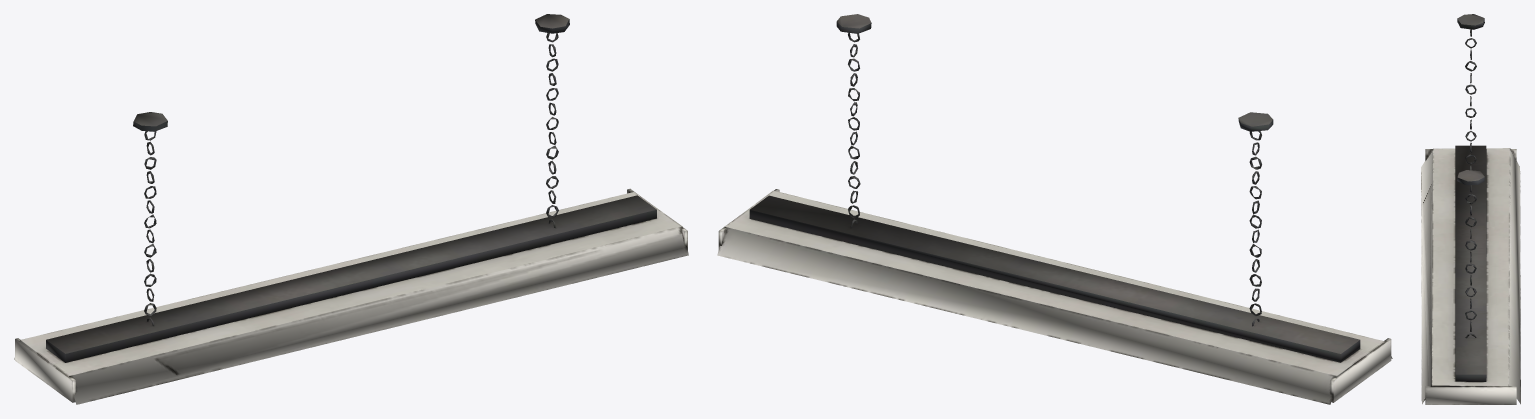
File: shop_light-low.glb
The picture shows the model from 3 angles, left to right: view 1: azimuth 30°, elevation 25°; view 2: azimuth 150°, elevation 25°; view 3: azimuth 270°, elevation 25°; orthographic projection. The views are drawn at different scales.
Parts seen in each view (by area): view 1: shop_light-low; view 2: shop_light-low; view 3: shop_light-low.
Part boxes in pixels (<box>): shop_light-low: <box>14,14,688,404</box>; shop_light-low: <box>717,14,1392,404</box>; shop_light-low: <box>1421,14,1520,404</box>.
Size of the model in its own units: 1.22 by 0.4513 by 0.2166.
Materials: 1 (1 with a texture image).
